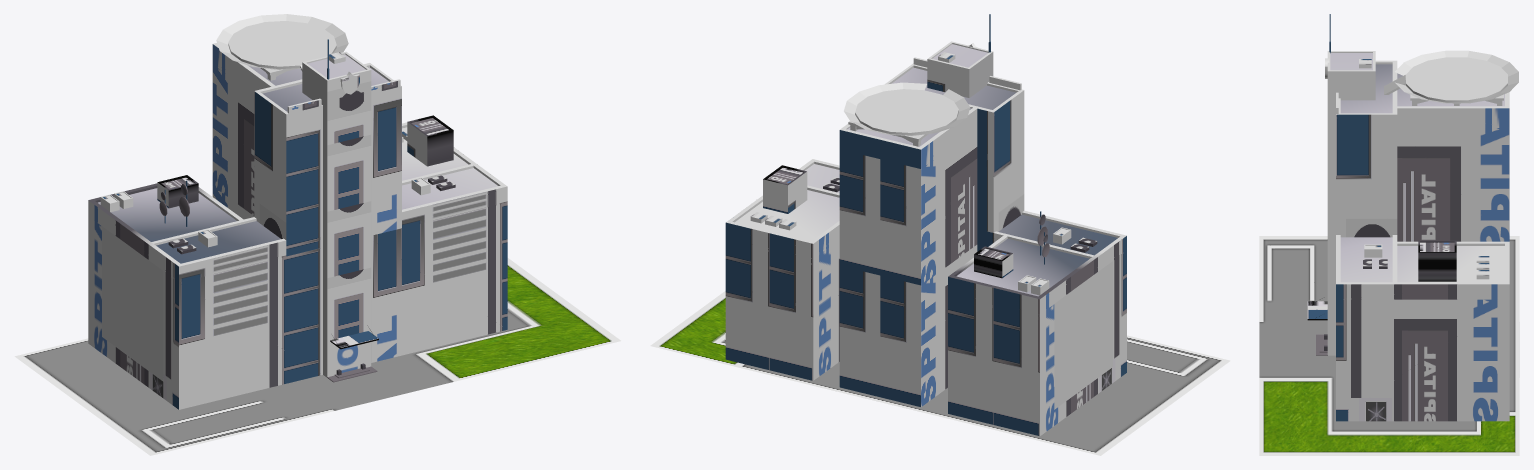
Rendered from Police_Huge.fbx.
The picture shows the model from 3 angles, left to right: view 1: azimuth 30°, elevation 25°; view 2: azimuth 150°, elevation 25°; view 3: azimuth 270°, elevation 25°; orthographic projection. The views are drawn at different scales.
Visible parts, largest first — view 1: Police_Huge, Police_BG_Huge, Graffiti_001, HelicopterPlace, HelicopterPlace_Alpha_DoubleSided; view 2: Police_Huge, Police_BG_Huge, Graffiti_001, HelicopterPlace, HelicopterPlace_Alpha_DoubleSided; view 3: Police_Huge, Police_BG_Huge, HelicopterPlace, HelicopterPlace_Alpha_DoubleSided.
Part boxes in pixels (<box>): Police_Huge: <box>88,39,507,409</box>; Police_BG_Huge: <box>14,258,620,455</box>; Graffiti_001: <box>102,226,163,381</box>; HelicopterPlace: <box>228,21,336,80</box>; HelicopterPlace_Alpha_DoubleSided: <box>216,14,348,69</box>; Police_Huge: <box>725,14,1126,436</box>; Police_BG_Huge: <box>650,291,1230,455</box>; Graffiti_001: <box>1054,261,1112,409</box>; HelicopterPlace: <box>848,89,958,146</box>; HelicopterPlace_Alpha_DoubleSided: <box>844,82,970,135</box>; Police_Huge: <box>1307,14,1509,421</box>; Police_BG_Huge: <box>1259,236,1519,455</box>; HelicopterPlace: <box>1384,57,1507,105</box>; HelicopterPlace_Alpha_DoubleSided: <box>1395,50,1518,103</box>.
Size of the model in its own units: 4000 by 2732 by 2000.
